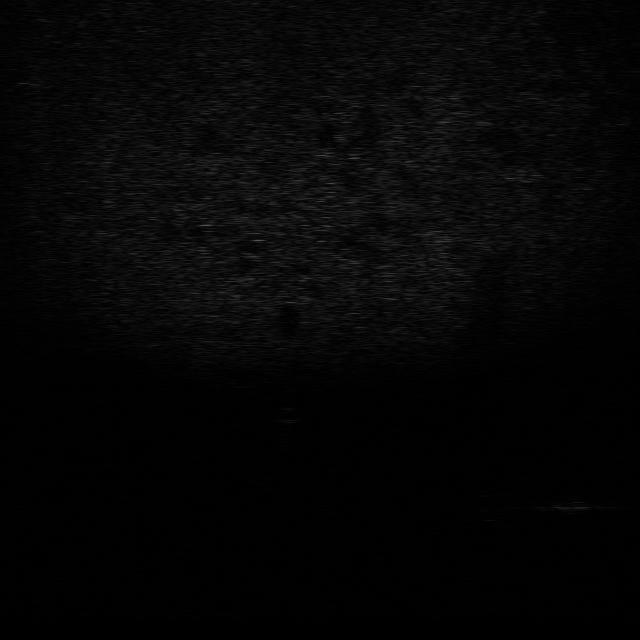ball: (270, 405, 309, 425)
metal bucket: (520, 497, 596, 518)
tyre: (469, 492, 511, 524)
